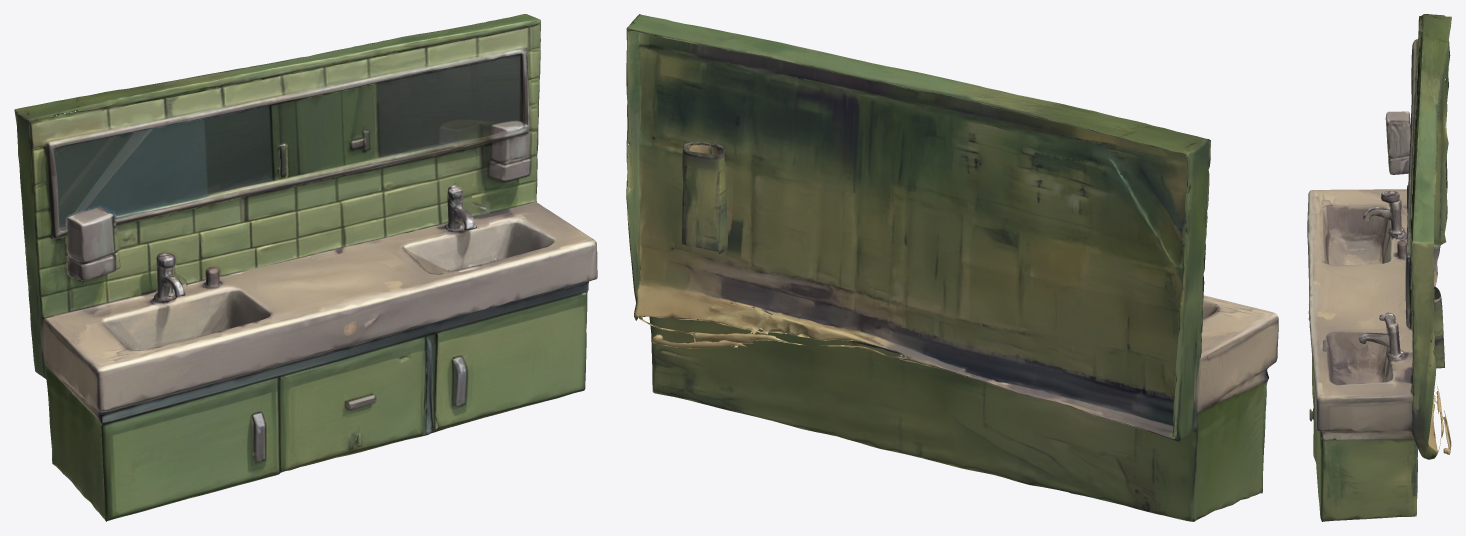
Rendered from sinks.glb.
3 views of the same model, side by side, from view 1: azimuth 30°, elevation 25°; view 2: azimuth 150°, elevation 25°; view 3: azimuth 270°, elevation 25° (orthographic). The views are drawn at different scales.
Visible parts, largest first — view 1: piece; view 2: piece; view 3: piece.
Boxes of the visible parts, x1=… form: piece: x1=14, y1=14, x2=597, y2=521; piece: x1=626, y1=14, x2=1278, y2=521; piece: x1=1307, y1=14, x2=1451, y2=521.
Bounding box in the file's own units: 2.8 × 1.89 × 0.8.
Materials: 1 (1 with a texture image).
